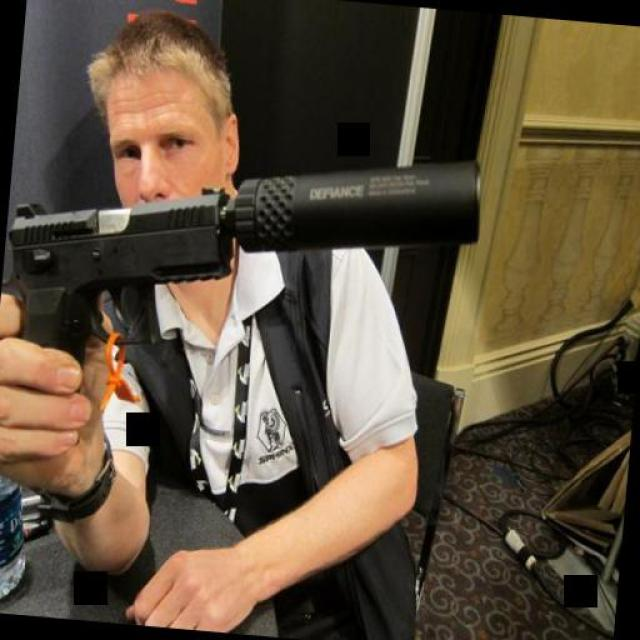gun: (0, 162, 239, 382)
